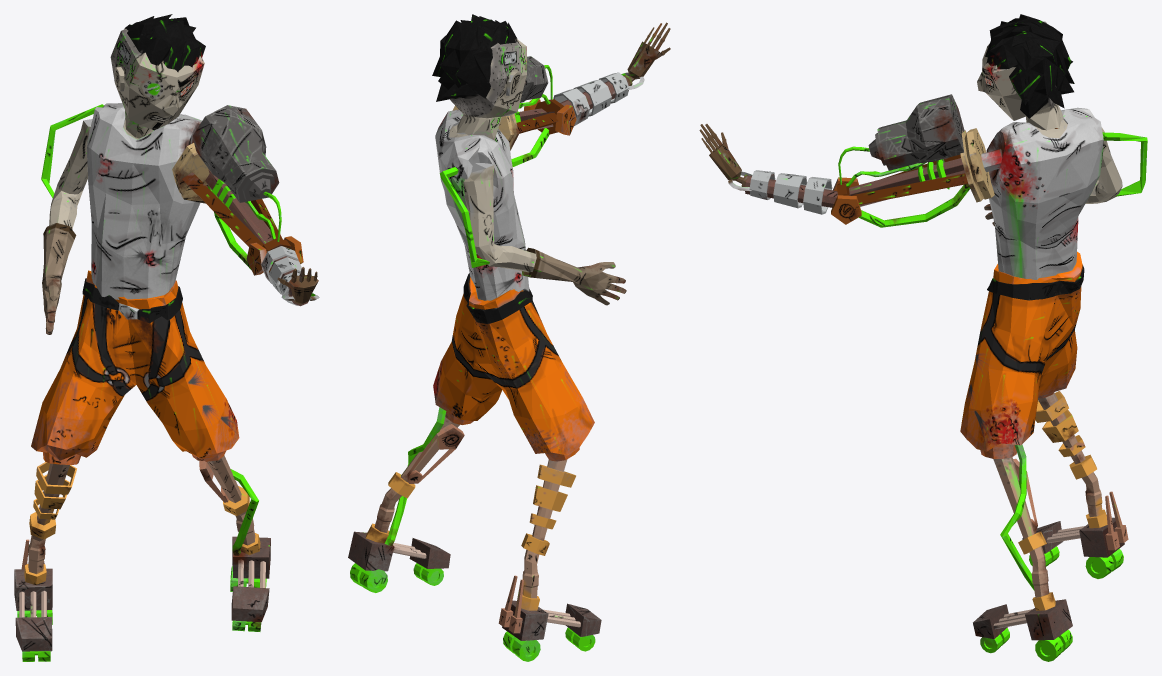
The model's file is CyborgFINALAnimation_000019.obj.
3 views of the same model, side by side, from view 1: azimuth 30°, elevation 25°; view 2: azimuth 150°, elevation 25°; view 3: azimuth 270°, elevation 25° (orthographic). The views are drawn at different scales.
Parts seen in each view (by area): view 1: CyborgMesh_Cube.002; view 2: CyborgMesh_Cube.002; view 3: CyborgMesh_Cube.002.
Part boxes in pixels (x1=…): CyborgMesh_Cube.002: x1=14, y1=14, x2=319, y2=661; CyborgMesh_Cube.002: x1=348, y1=14, x2=670, y2=661; CyborgMesh_Cube.002: x1=699, y1=14, x2=1147, y2=661.
Bounding box in the file's own units: 4.11 × 9.49 × 6.45.
